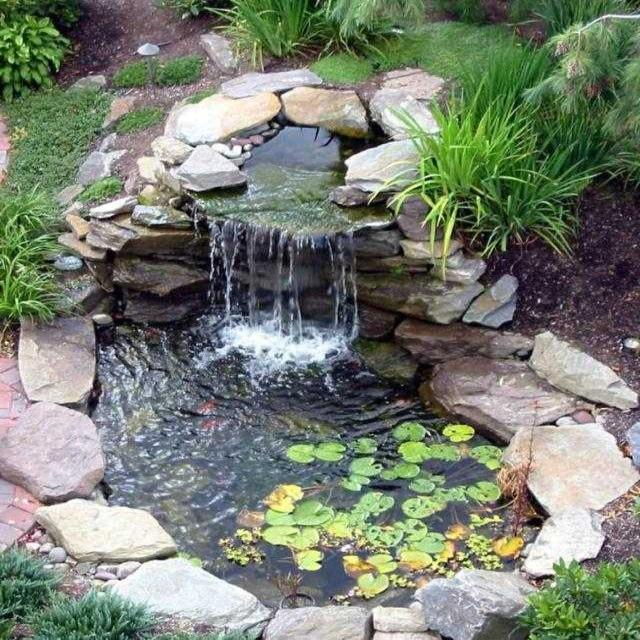Ponds: (1, 68, 640, 640)
